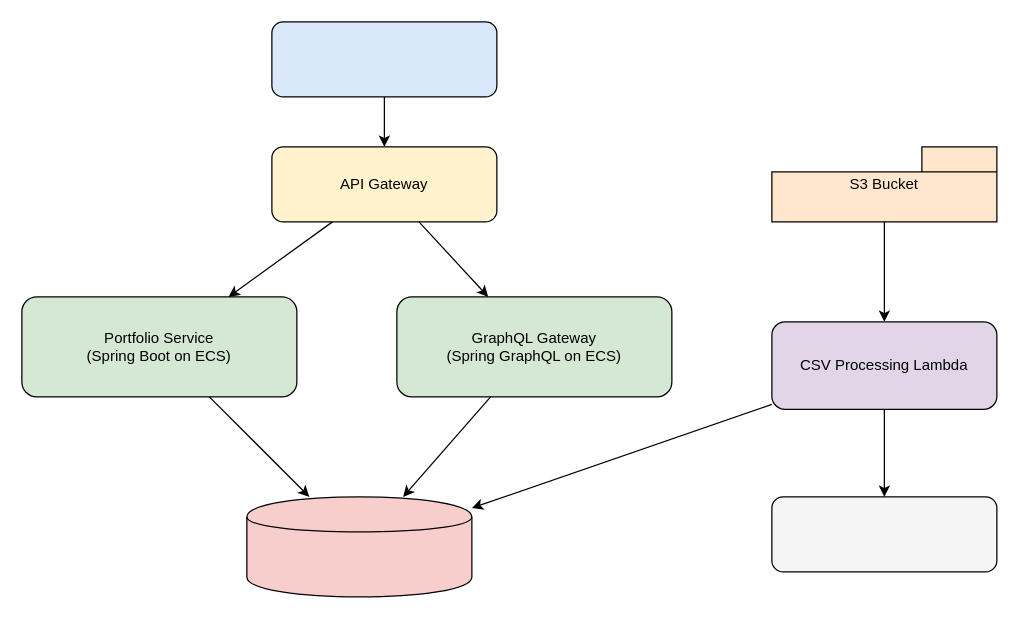
Some shapes in this 1019 by 619 pixel diagram are drawn without their labels. Here are the shapes that lost their labels. From the top down, the centre of each, then its label:
At point (384, 59): "Angular Dashboard".
At point (359, 546): "DynamoDB".
At point (884, 534): "CloudWatch Logs".
